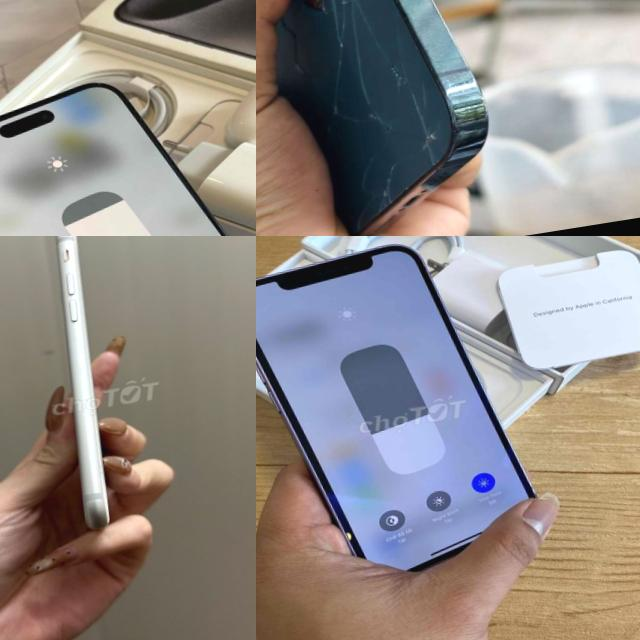gen_12_13: (256, 236, 560, 605), (256, 0, 524, 236)
gen_15: (0, 45, 256, 236)
gen_7_8: (41, 236, 131, 540)
physical_damage: (256, 0, 448, 232)
scratch: (432, 57, 507, 175)
